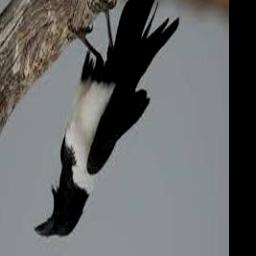Crow: (34, 0, 180, 238)
